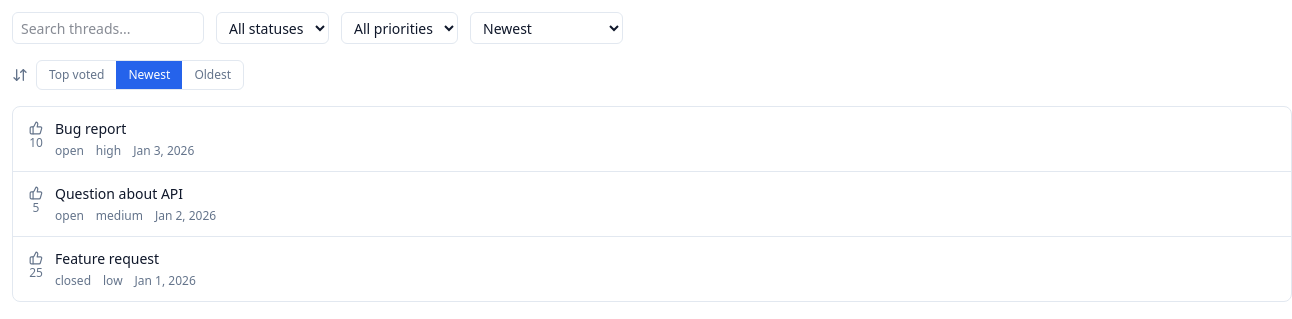
Test case: BoardView › shows empty state when filters match nothing
Step 1. Type "nonexistent" into the search field with test id "thread-search-input" → (108, 28), box [12,12,204,44]
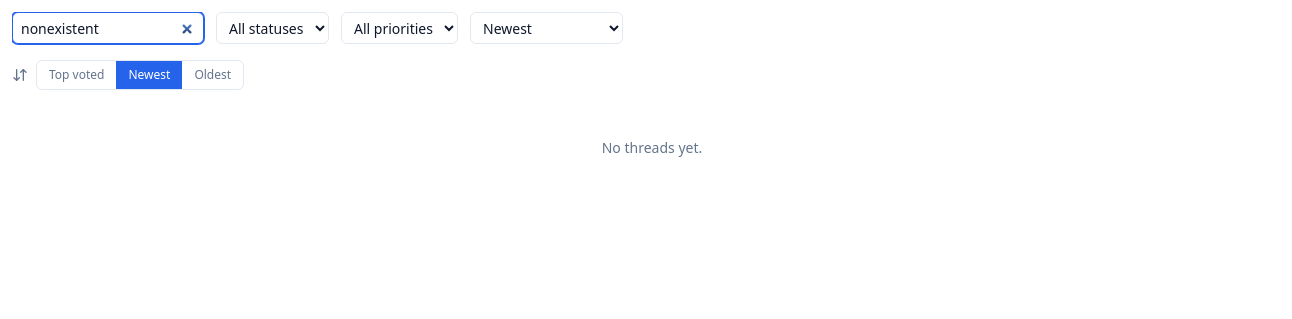
Expected: the text "No threads yet." is shown, [602,138,702,157]
